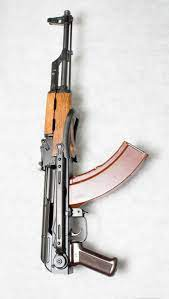gun: (34, 7, 149, 277)
